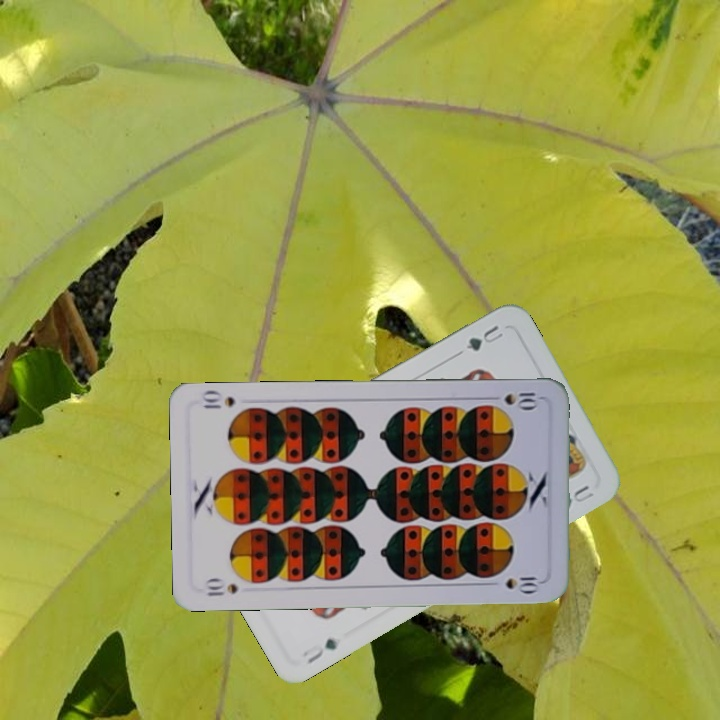GU: (461, 320, 506, 354), (298, 634, 340, 666)
S10: (484, 387, 541, 411), (202, 575, 240, 598)
